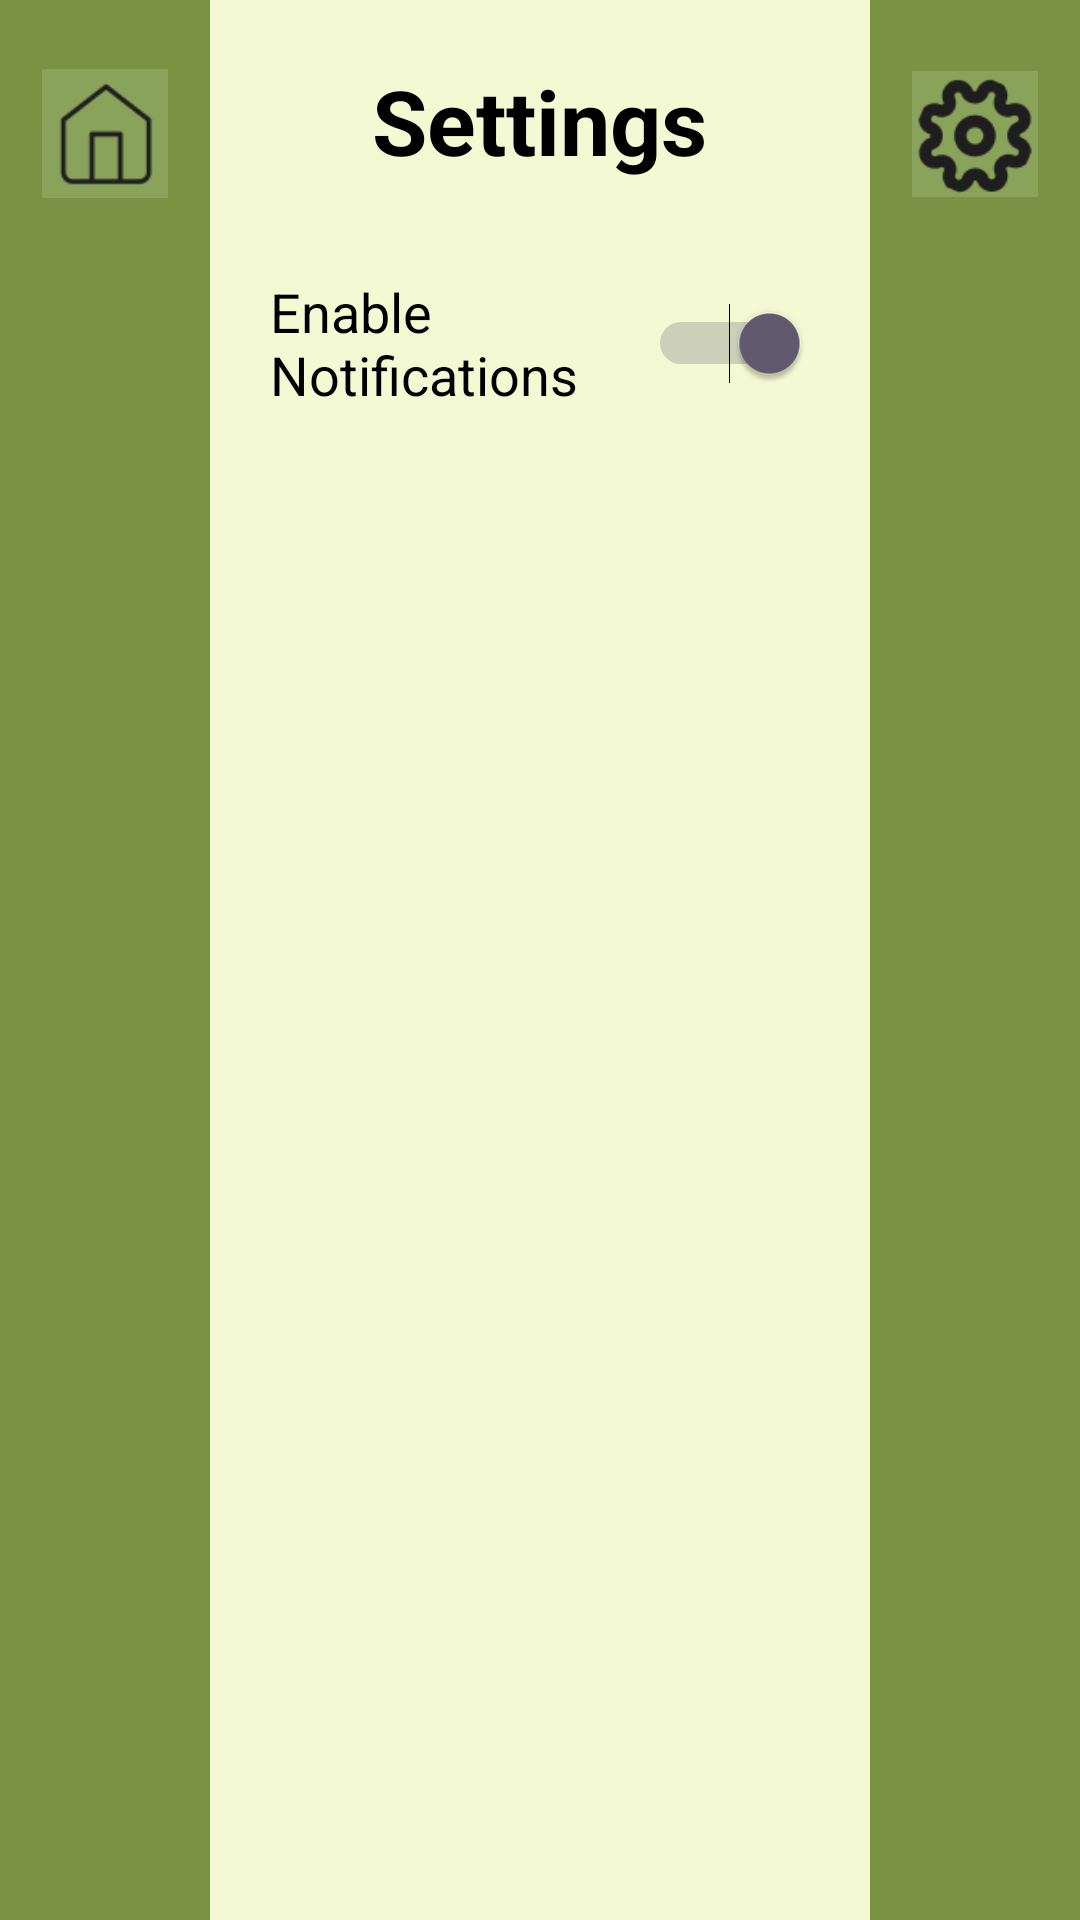

Icons on this 1080w x 1920h Android screen, each with its box as (x1, y1, x2, y2):
Home: (42, 69, 168, 198)
Settings: (918, 80, 1032, 192)
